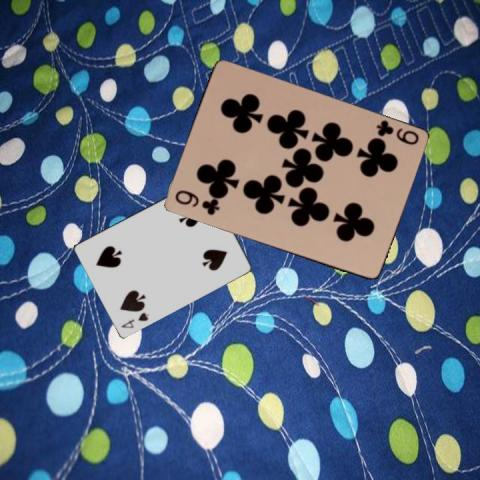4s: (118, 310, 151, 330)
9c: (171, 188, 221, 218), (373, 117, 420, 147)
